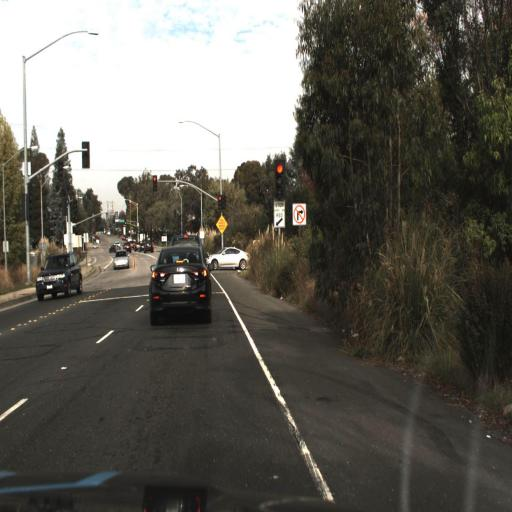car: (145, 242, 213, 325), (34, 246, 84, 300), (206, 246, 254, 273), (206, 246, 248, 269), (112, 249, 129, 274)
trafficLight-Red: (274, 159, 285, 201), (151, 174, 159, 194), (217, 192, 224, 211)
